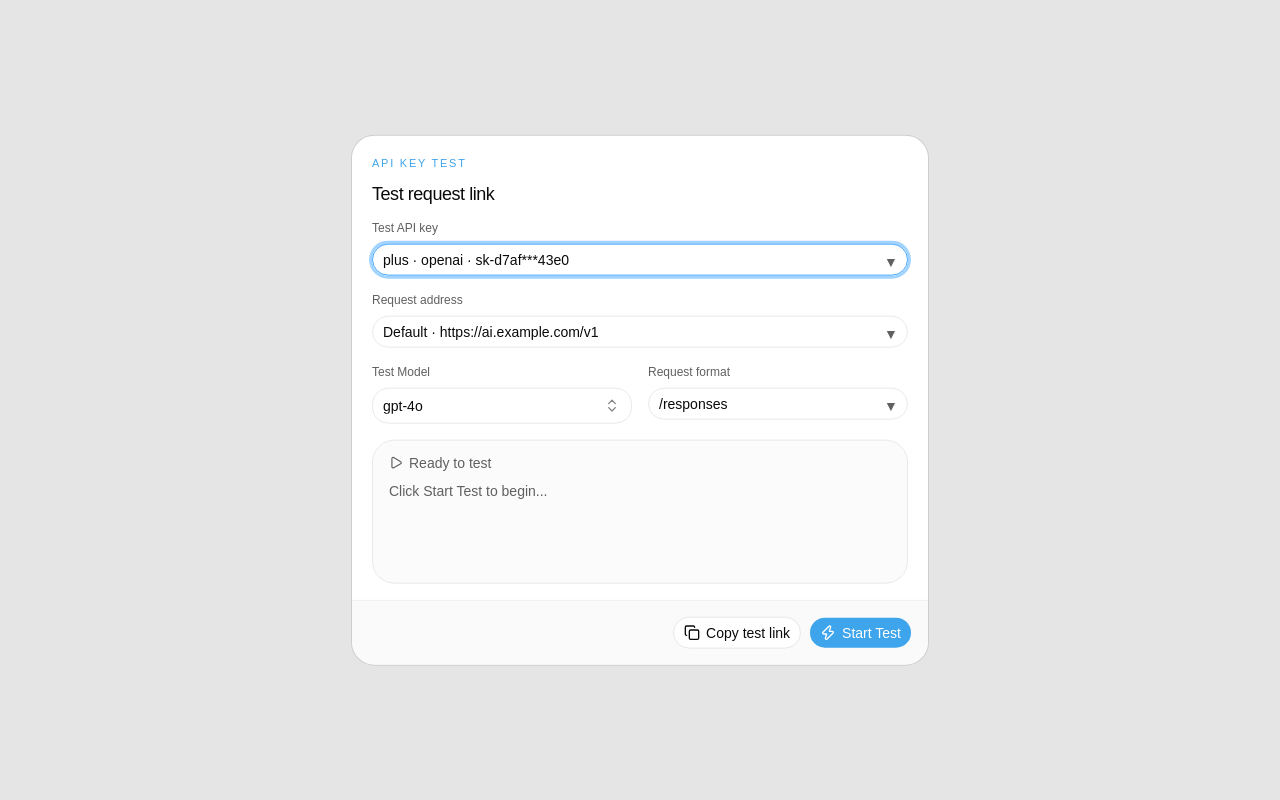
Test: next test connection dialog › shows the server error text when the stream fails
This screenshot has width=1280, height=800.
Click the button "Start Test". click: [861, 632]
box: [809,616,912,648]
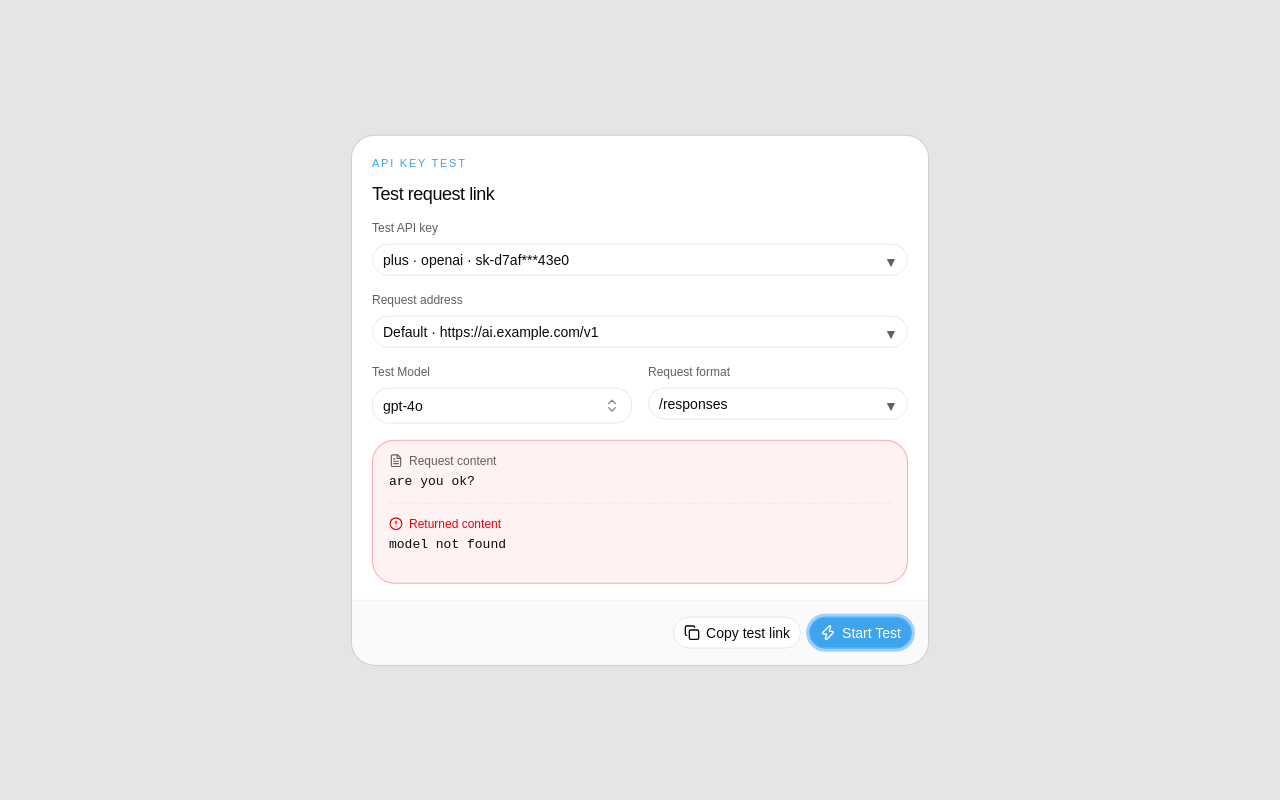
Now the text "model not found" is shown, box [389,537,506,552]
Now the text "Click Start Test to begin..." is gone
